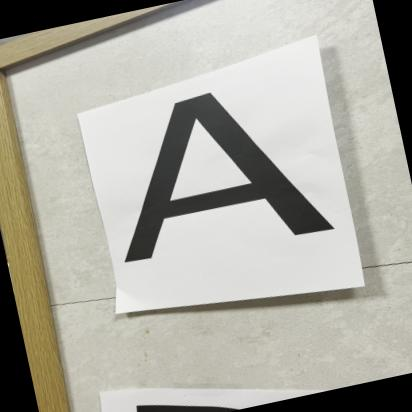seat: (82, 65, 342, 279)
